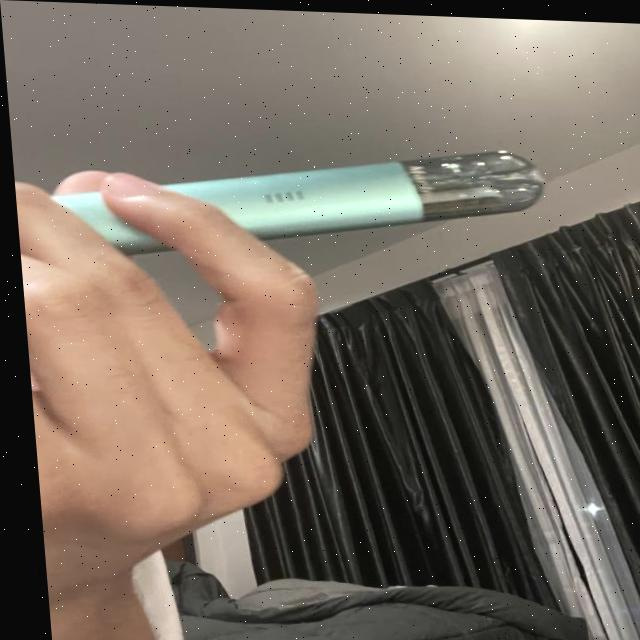vape: (47, 133, 549, 262)
